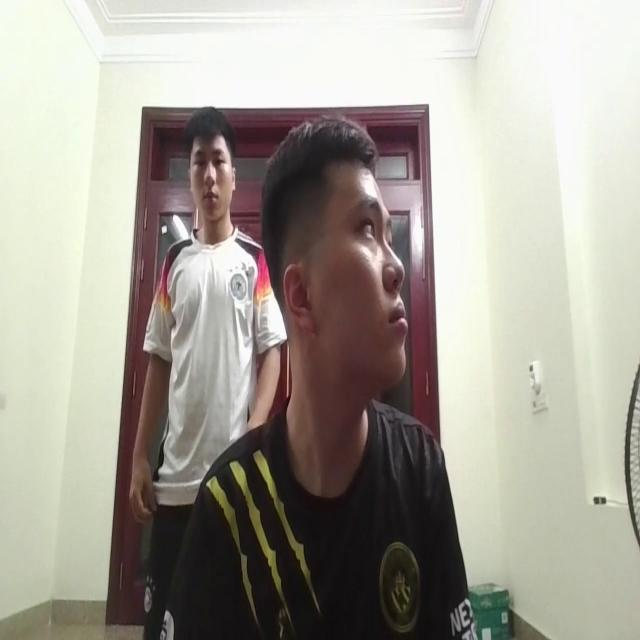extra_person: (118, 82, 278, 522)
student: (213, 121, 464, 640)
